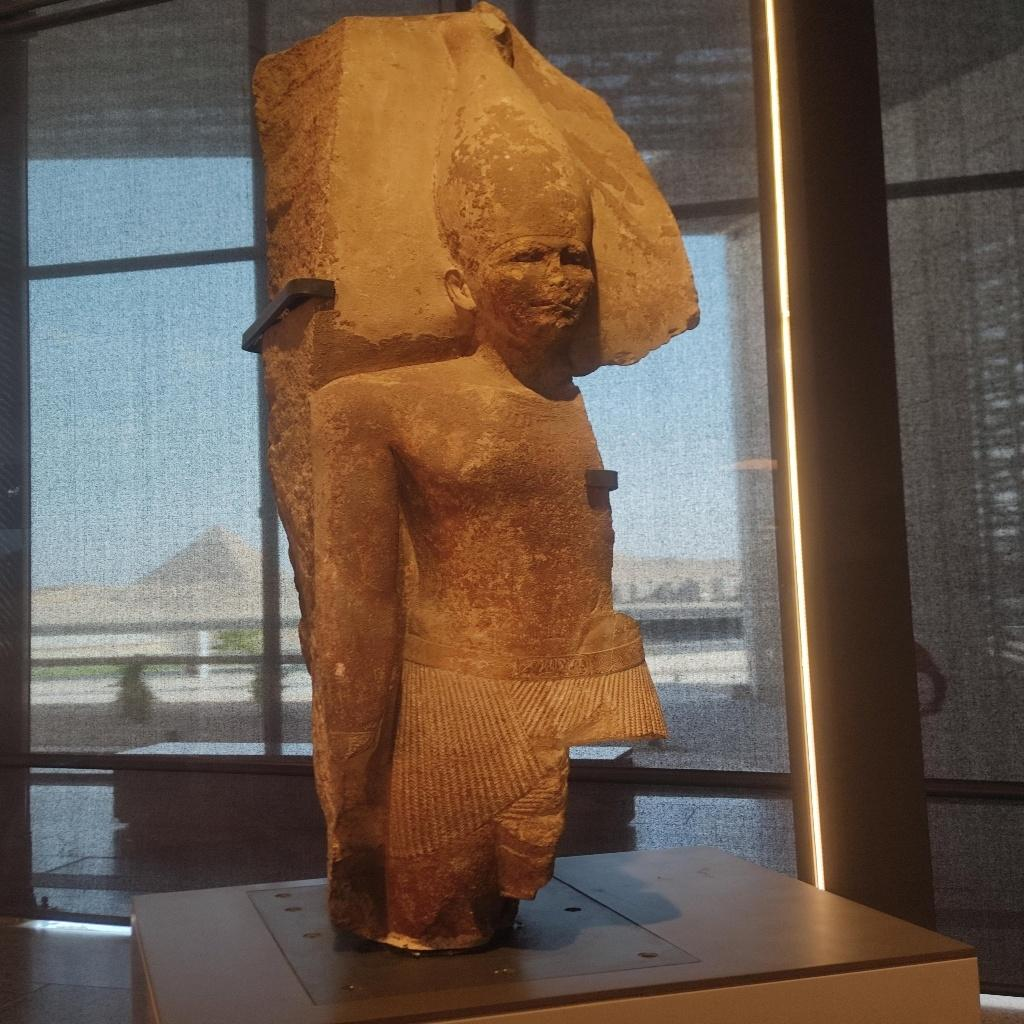Statue of Snefru: (250, 4, 705, 958)
